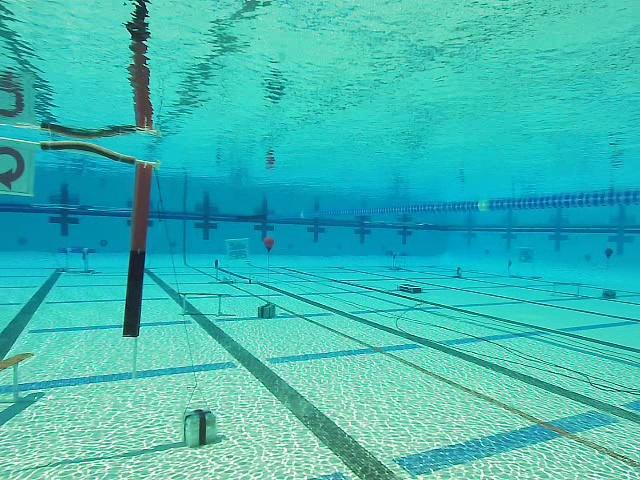buoy: (264, 237, 276, 253)
gate_leg_r: (122, 160, 158, 337)
table: (60, 247, 95, 274)
torpedo: (227, 239, 248, 262)
